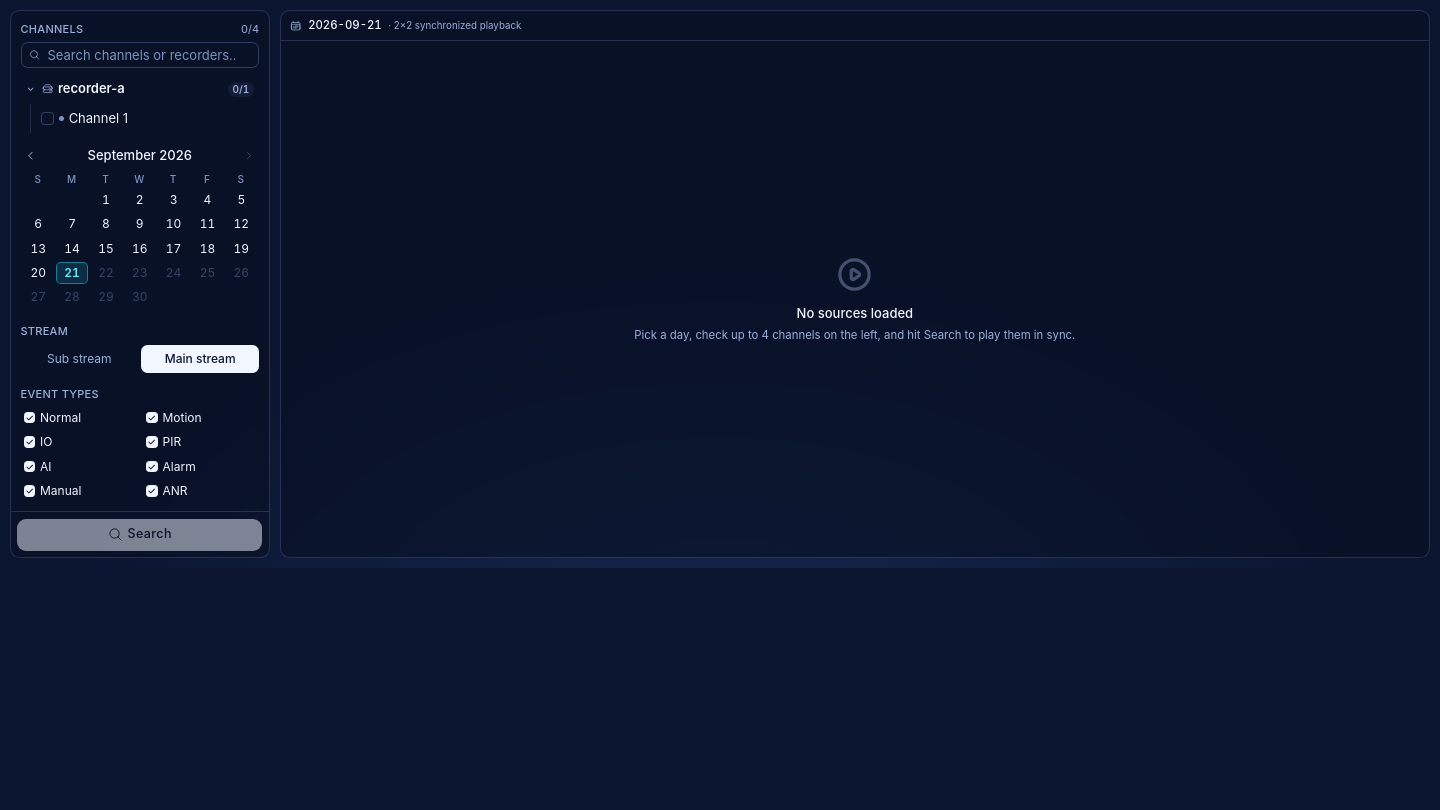
Scenario: the channel rail › says a search matched nothing rather than looking like an empty estate
Expected: the text "Channel 1" is shown, left=69, top=110, right=128, bottom=126
Type "zzz" into the field with placeholder "Search channels or recorders…" at (140, 55), box left=20, top=42, right=259, bottom=68
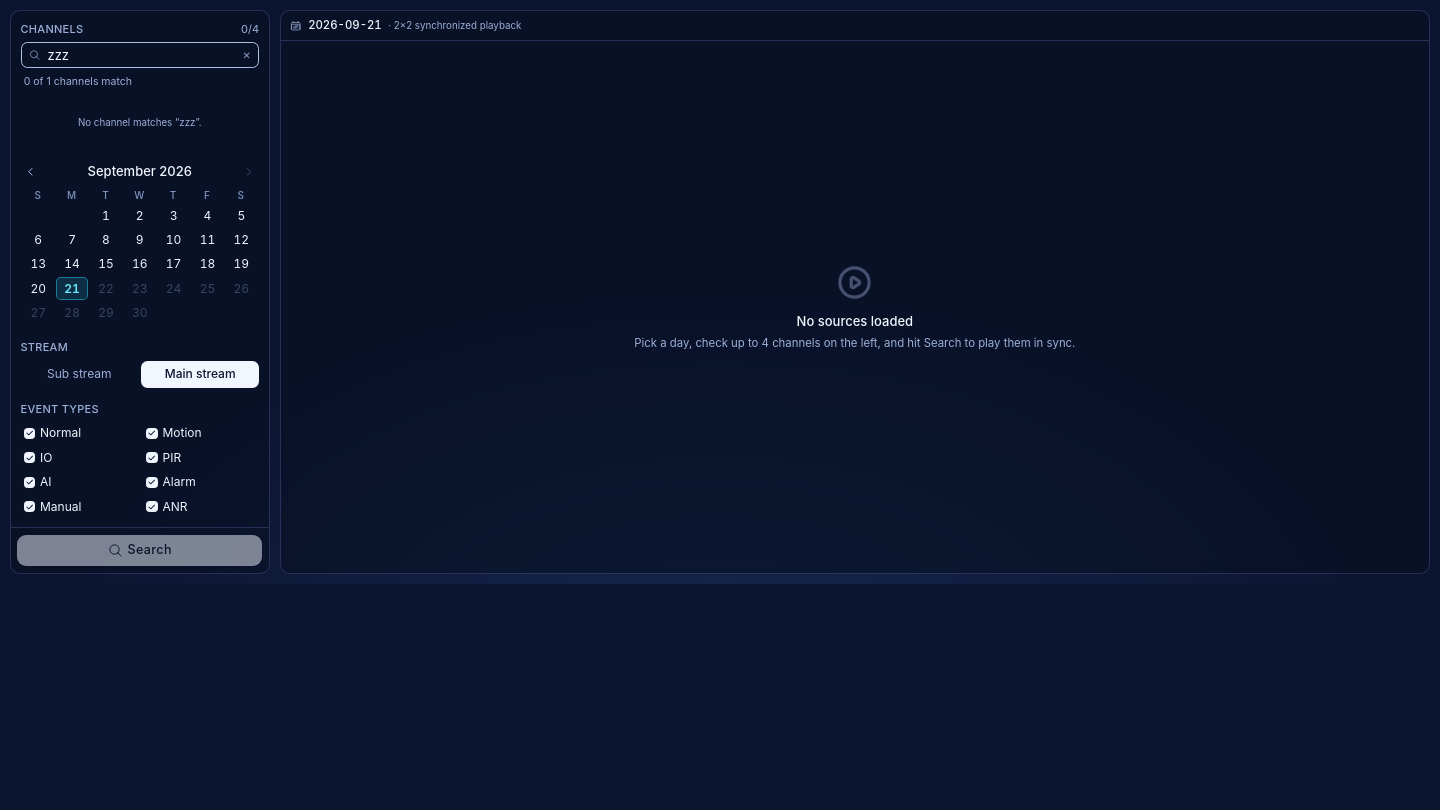
Now the text "No channel matches “zzz”." is shown, box left=78, top=117, right=202, bottom=128
